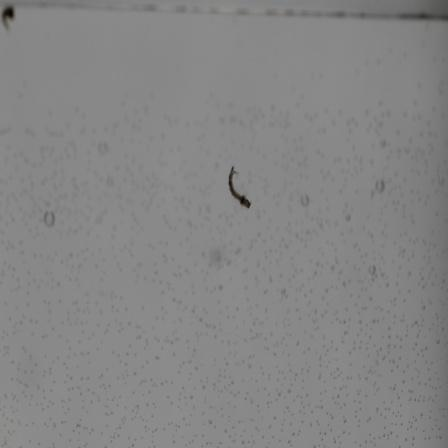Jentik-Nyamuk: (224, 160, 255, 213)
